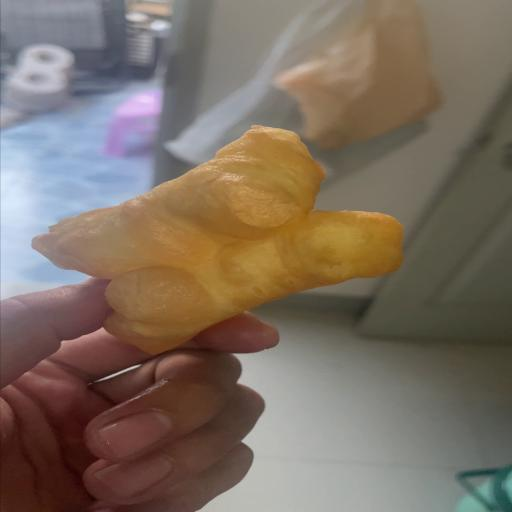street_golden_good: (36, 125, 404, 353)
